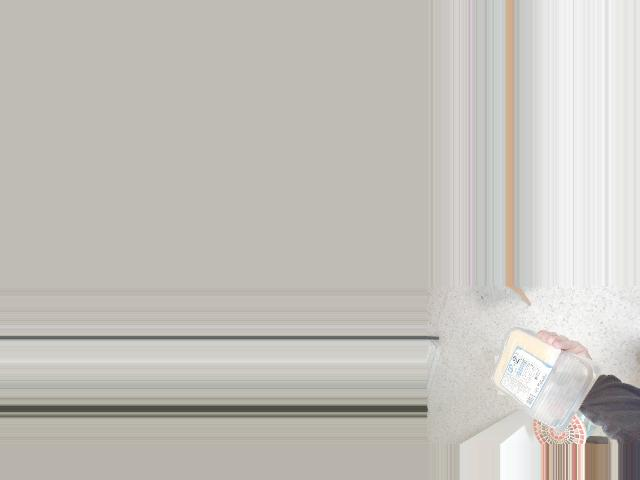cheese: (488, 334, 574, 438)
